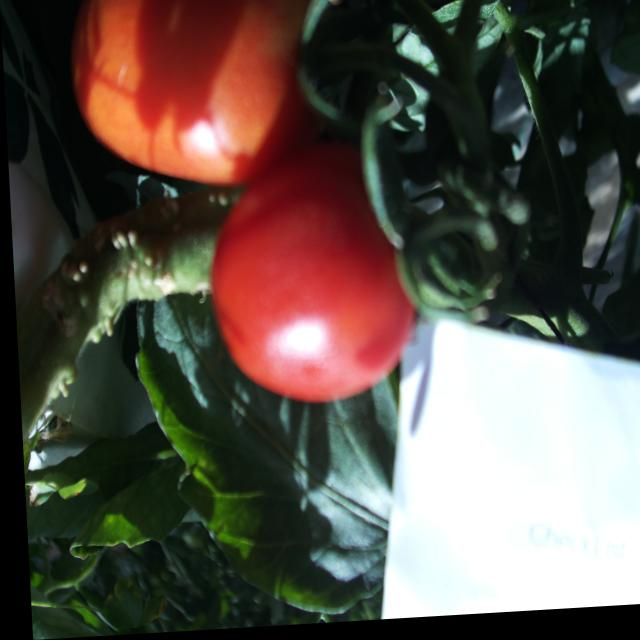kirmizi: (53, 0, 424, 425)
